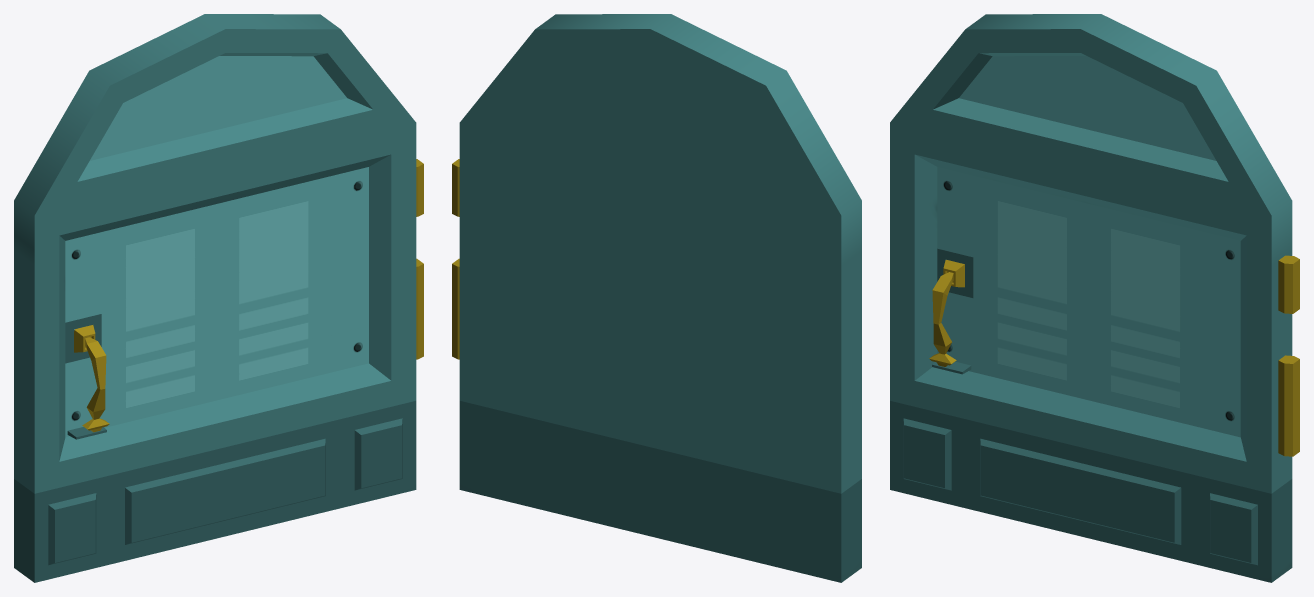
File: door.FBX
The picture shows the model from 3 angles, left to right: view 1: azimuth 30°, elevation 25°; view 2: azimuth 150°, elevation 25°; view 3: azimuth 330°, elevation 25°; orthographic projection.
Parts seen in each view (by area): view 1: Box001; view 2: Box001; view 3: Box001.
Part boxes in pixels (x1,y1,x2,y2): Box001: [14, 14, 423, 582]; Box001: [452, 14, 861, 582]; Box001: [890, 14, 1299, 582].
Size of the model in its own units: 28.18 by 34.48 by 3.91.
